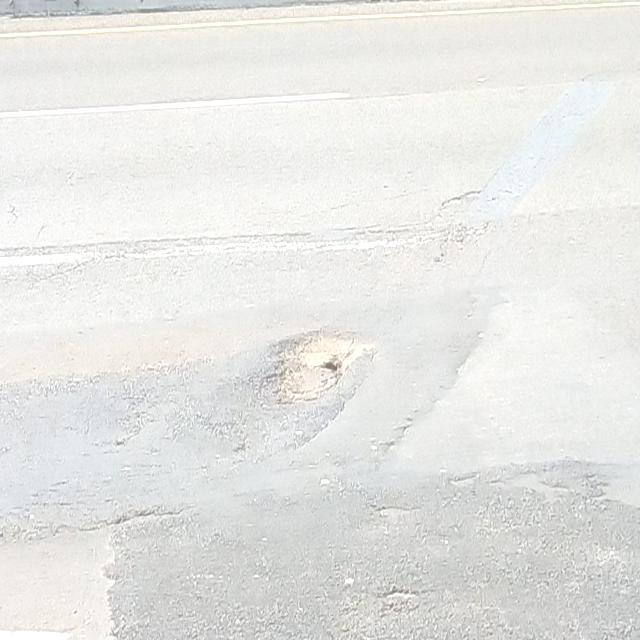Buraco: (250, 323, 380, 412)
